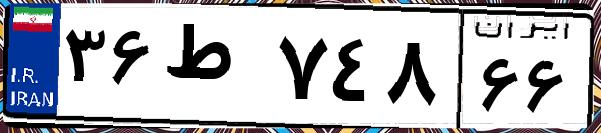3: (57, 26, 110, 100)
4: (330, 28, 385, 110)
6: (475, 38, 525, 113), (525, 38, 570, 115), (110, 28, 158, 98)
7: (270, 28, 330, 110)
8: (385, 28, 445, 110)
ط: (158, 20, 270, 120)
